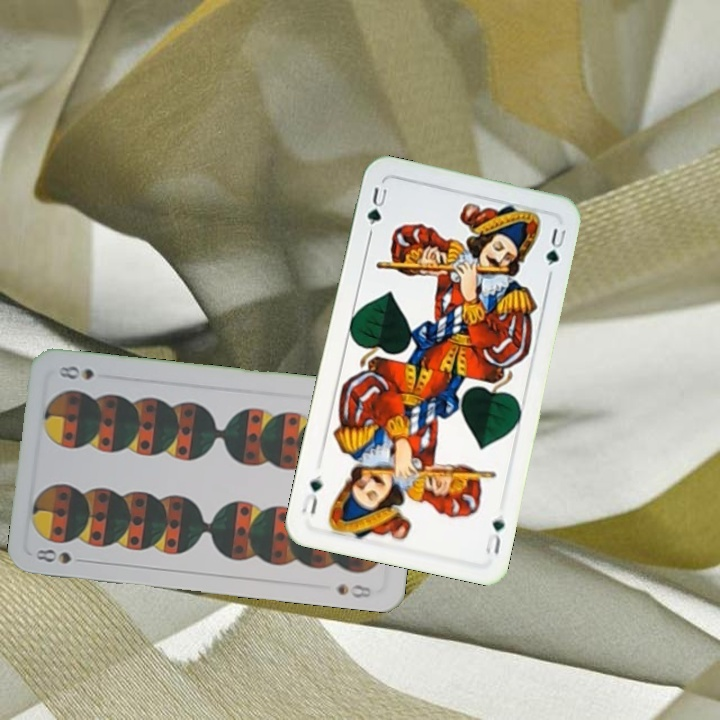GU: (363, 183, 390, 228), (481, 515, 508, 557)
S8: (31, 545, 74, 566)
